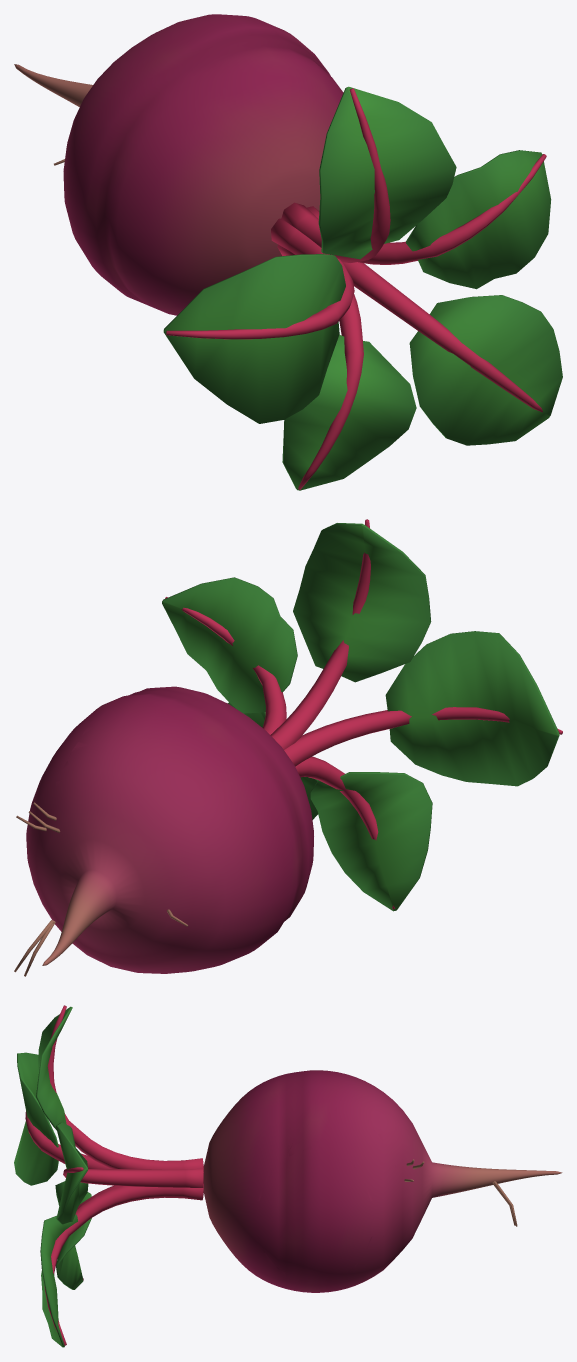
File: beetroot_held.glb
3 renders of one model, top to bottom at view 1: azimuth 30°, elevation 25°; view 2: azimuth 150°, elevation 25°; view 3: azimuth 270°, elevation 25°, orthographic. The views are drawn at different scales.
Parts seen in each view (by area): view 1: eat_0_Leaves, eat_0_Body, eat_0_Stalks, eat_1_Body; view 2: eat_0_Body, eat_0_Leaves, eat_0_Stalks, eat_1_Body, eat_0_Hairs; view 3: eat_0_Body, eat_0_Leaves, eat_0_Stalks, eat_1_Body, eat_2_Body.
Boxes of the visible parts, x1=… form: eat_0_Leaves: x1=163, y1=86, x2=562, y2=490; eat_0_Body: x1=14, y1=14, x2=343, y2=315; eat_0_Stalks: x1=166, y1=88, x2=546, y2=489; eat_1_Body: x1=16, y1=14, x2=341, y2=315; eat_0_Body: x1=26, y1=686, x2=313, y2=973; eat_0_Leaves: x1=162, y1=523, x2=559, y2=911; eat_0_Stalks: x1=165, y1=519, x2=562, y2=909; eat_1_Body: x1=26, y1=690, x2=308, y2=973; eat_0_Hairs: x1=14, y1=802, x2=188, y2=976; eat_0_Body: x1=203, y1=1070, x2=561, y2=1292; eat_0_Leaves: x1=14, y1=1006, x2=91, y2=1347; eat_0_Stalks: x1=25, y1=1005, x2=203, y2=1345; eat_1_Body: x1=204, y1=1073, x2=560, y2=1292; eat_2_Body: x1=229, y1=1101, x2=411, y2=1284.
Size of the model in its own units: 0.1183 by 0.1122 by 0.1922.
